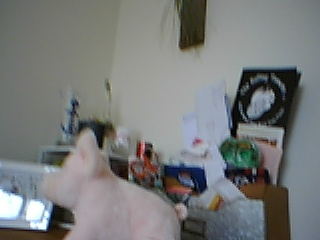piggy: (43, 126, 190, 240)
